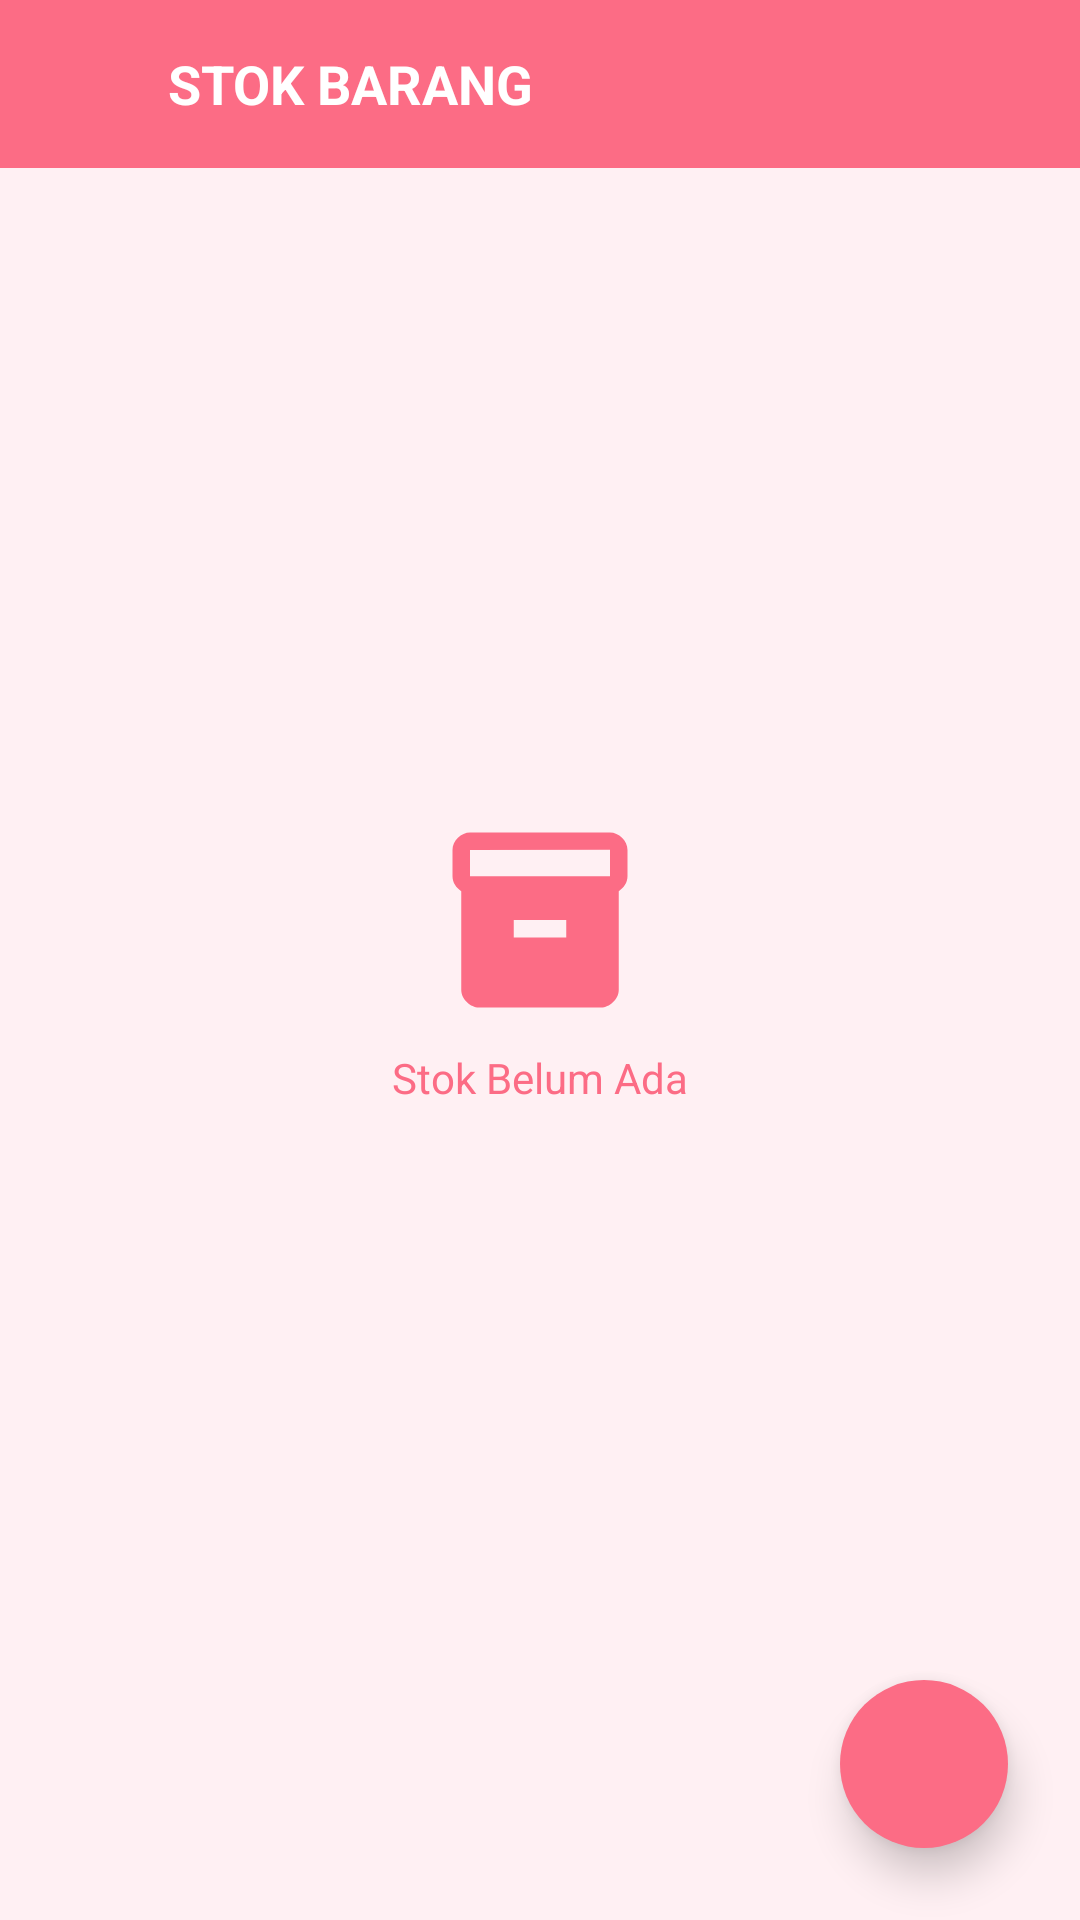

Where to tap for icons on this 1080×1920 app screen, as point (x, y):
Kosong: point (540, 920)
